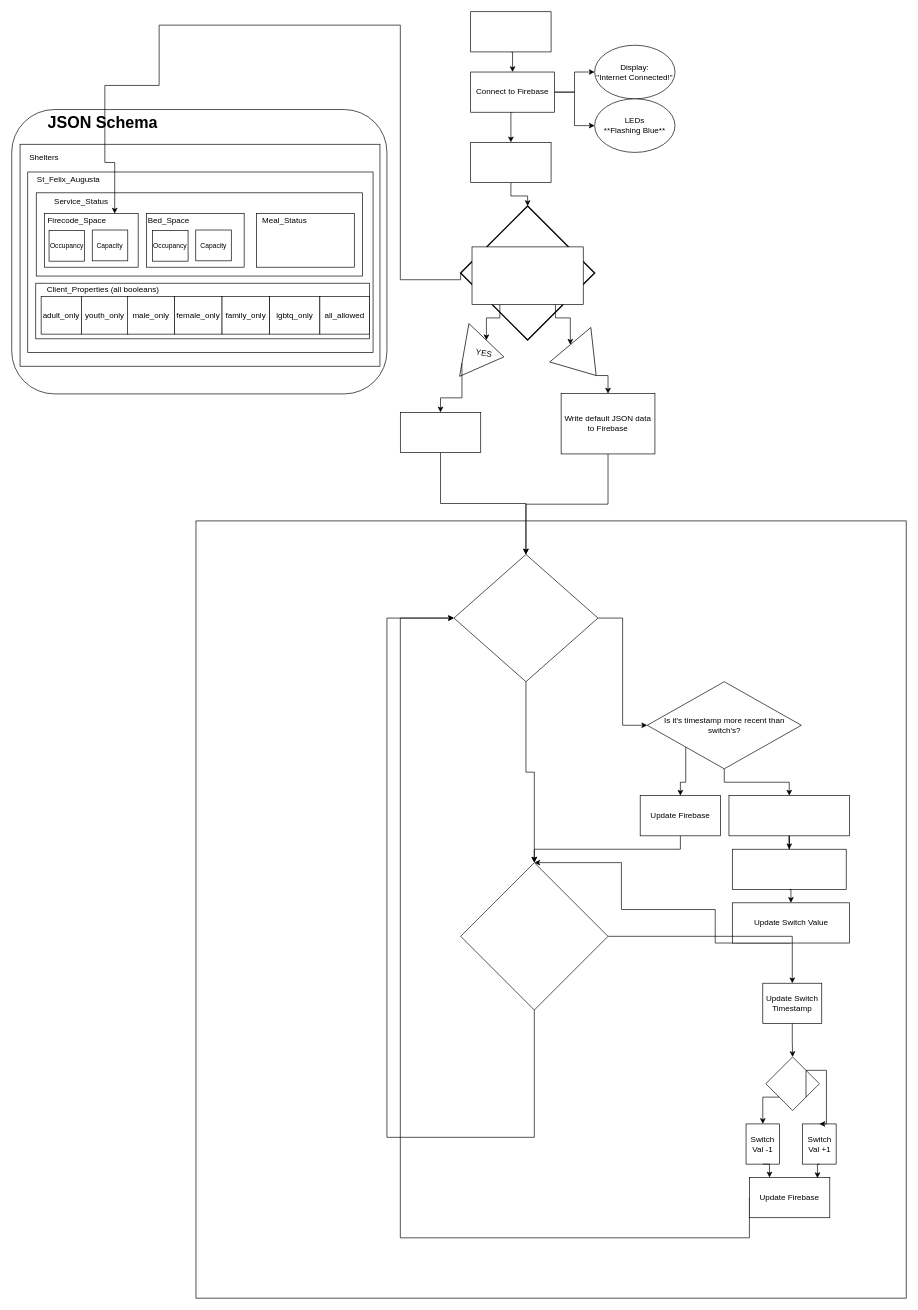
The diagram is 918 pixels wide and 1310 high, and some of its shapes have lost their labels. Here are the shapes that lost their labels. From the top down, the box of each, then its label:
(470, 11, 551, 52): Connect to Wifi
(470, 142, 551, 183): Get Last Occupancy from Firebase
(256, 213, 354, 267): meal, no_meal, snacks
(471, 246, 583, 305): DOES FIREBASE DATA ALREADY EXIST?
(549, 327, 617, 393): NO
(400, 412, 481, 453): Write FireBase's JSON to local JSON
(453, 554, 598, 682): firebase changed?
(728, 795, 850, 836): Update Display(Occupancy, Capacity)
(732, 849, 846, 889): Update LEDs(Occupancy/Capacity)
(460, 862, 608, 1010): Switch Value Change?
(765, 1056, 819, 1111): Was it +1 or -1?
